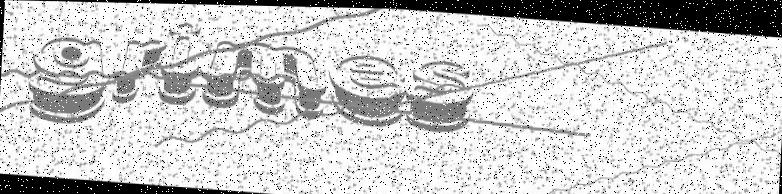e: (324, 49, 410, 127)
g: (20, 32, 110, 129)
i: (160, 17, 204, 112)
m: (199, 31, 331, 119)
r: (110, 31, 166, 107)
s: (403, 50, 477, 133)
